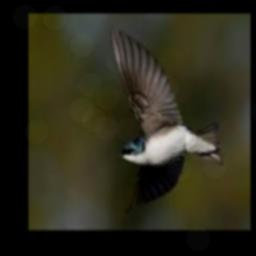Swallow: (108, 26, 222, 212)
